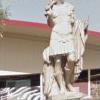Statue: (32, 2, 89, 100)
